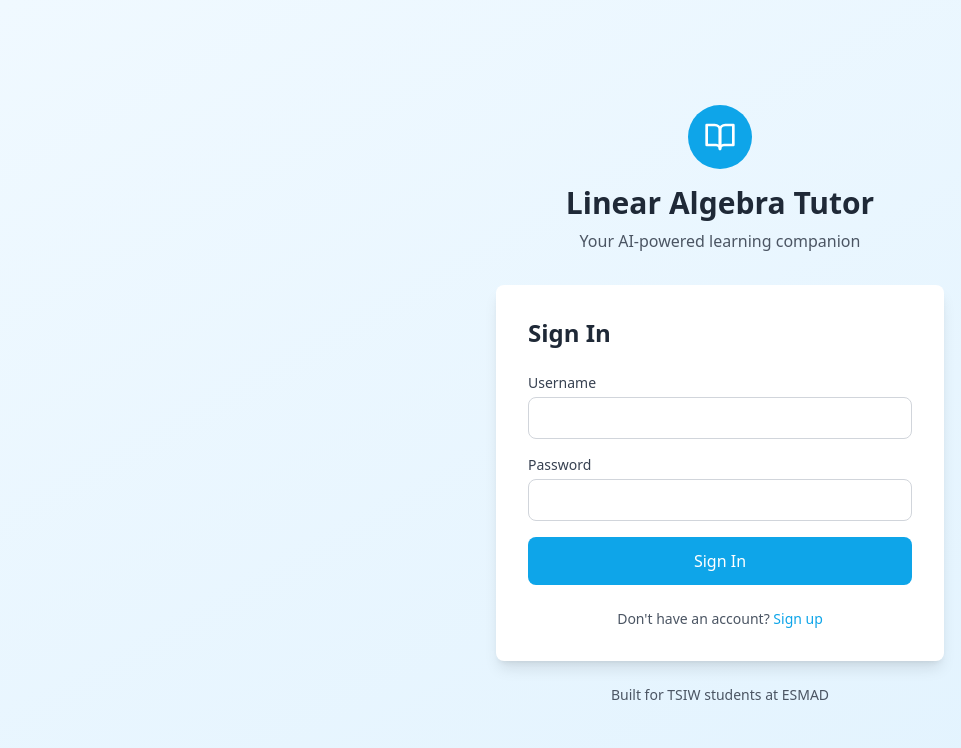
it: Login › shows the API error message on failure
The width and height of the screenshot is (961, 748).
Type "alice" into the field labelled "Username" at (720, 418), box [528,397,912,439]
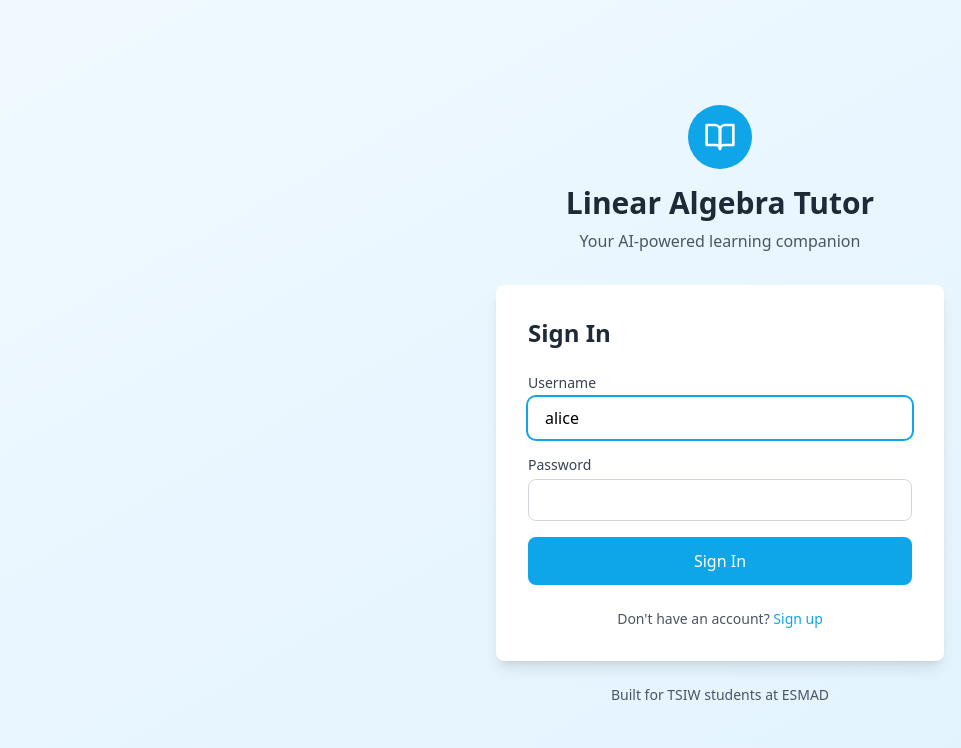
Type "wrong" into the password field labelled "Password" at (720, 500), box [528,479,912,521]
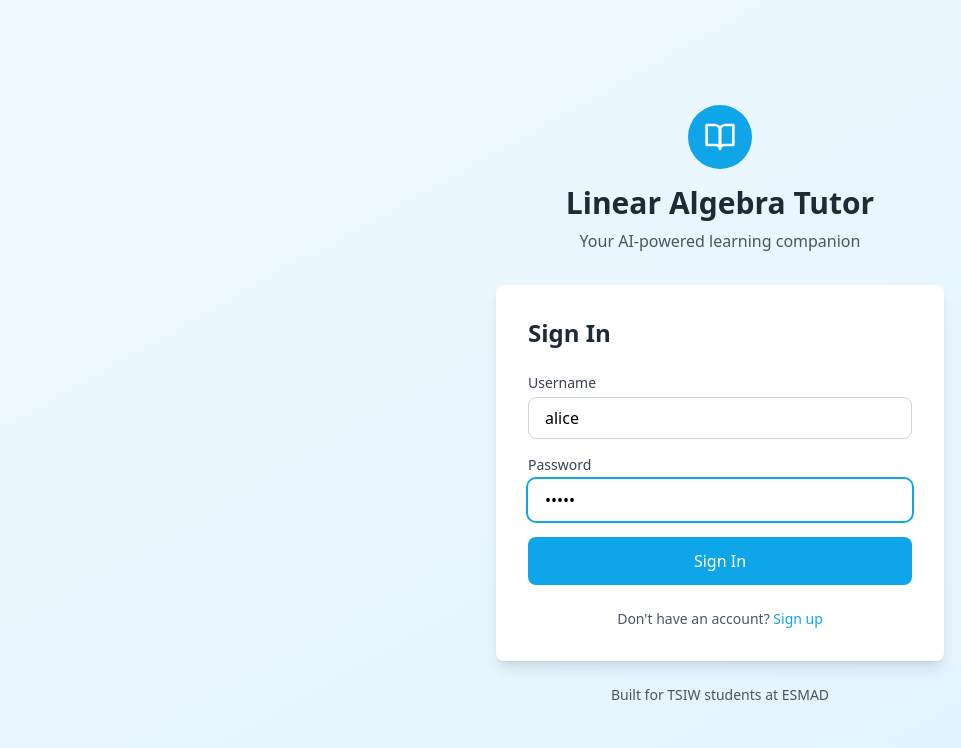
Click the button "Sign In" at (720, 561), box [528,537,912,585]
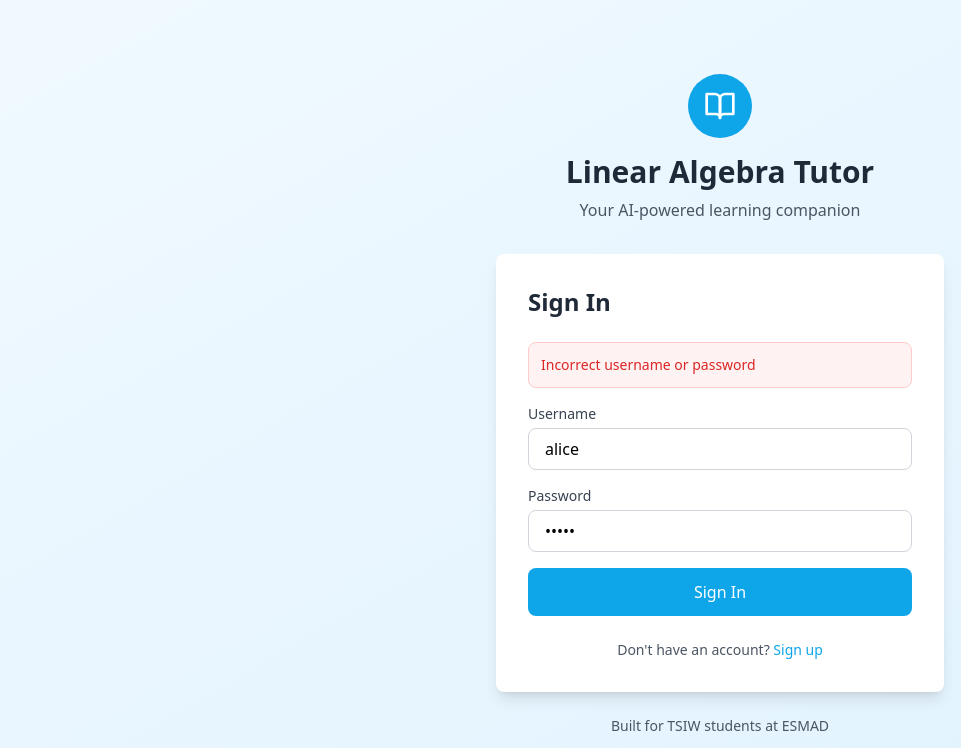
Check: the text "Incorrect username or password" is shown, box [528,342,912,388]
